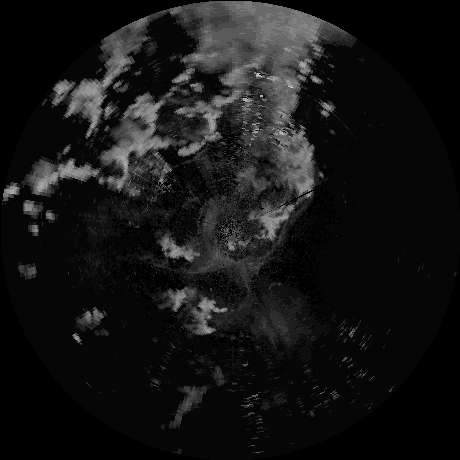frontgust: (272, 209, 306, 249), (153, 259, 207, 276), (183, 146, 208, 163)
